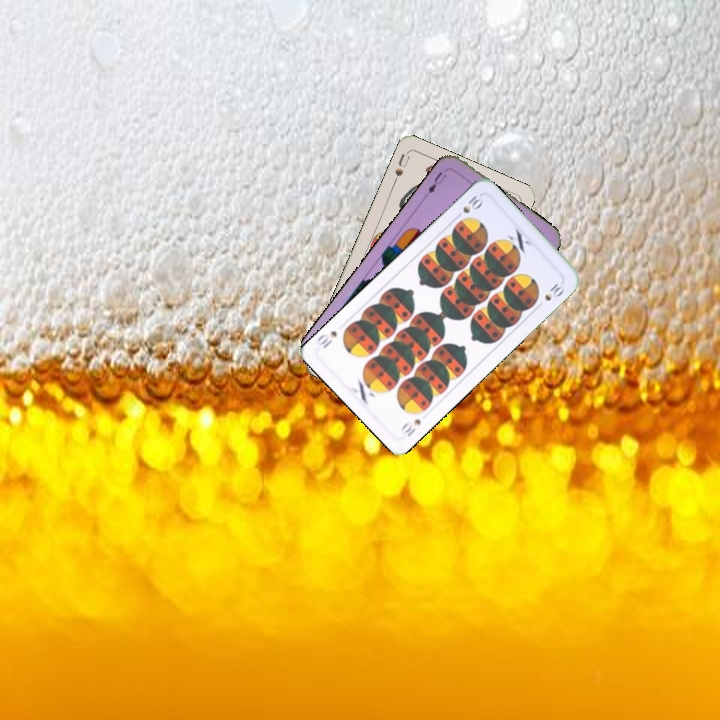EU: (421, 166, 450, 199)
S10: (451, 191, 486, 222), (397, 415, 423, 439)
SU: (389, 149, 413, 187)
